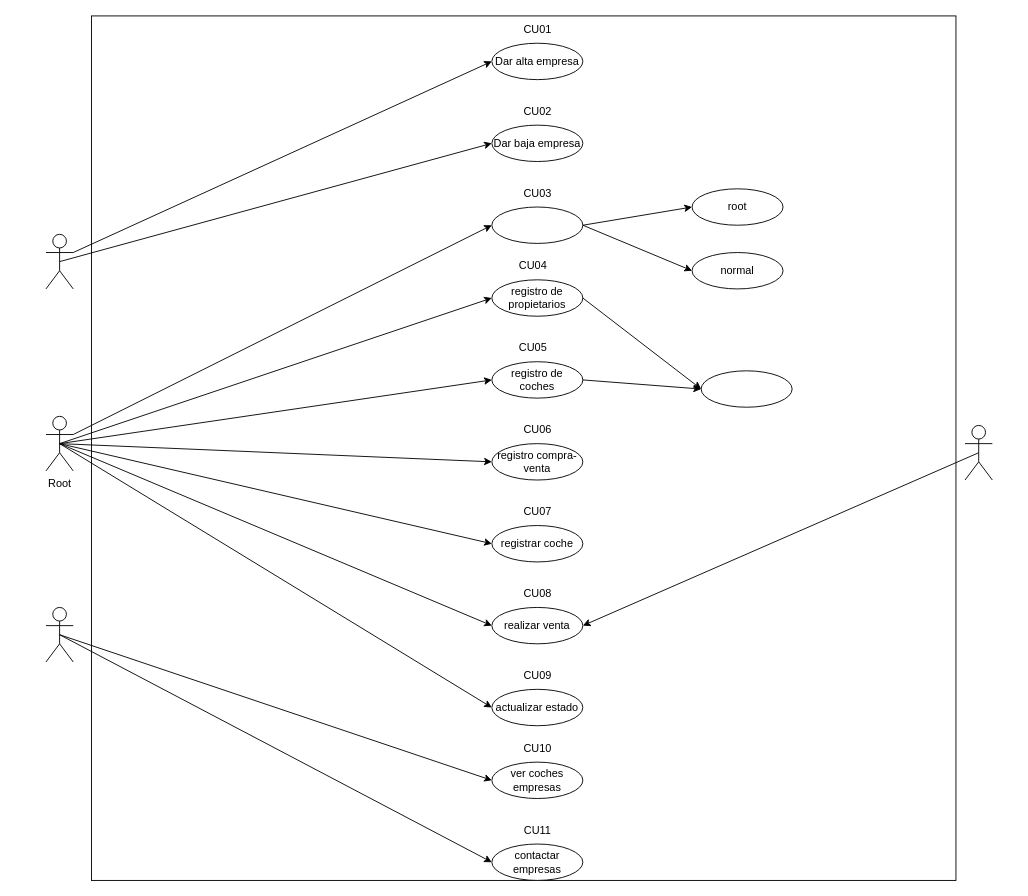
Some shapes in this 1028 by 896 pixel diagram are drawn without their labels. The shapes that lost their labels are listed below. From the top down, each one's centre as x and y in pixels, then its label:
(x=537, y=224): añadir usuario
(x=59, y=261): SuperRoot
(x=746, y=388): documentación
(x=978, y=452): Empresa user
(x=59, y=634): Conventional user
